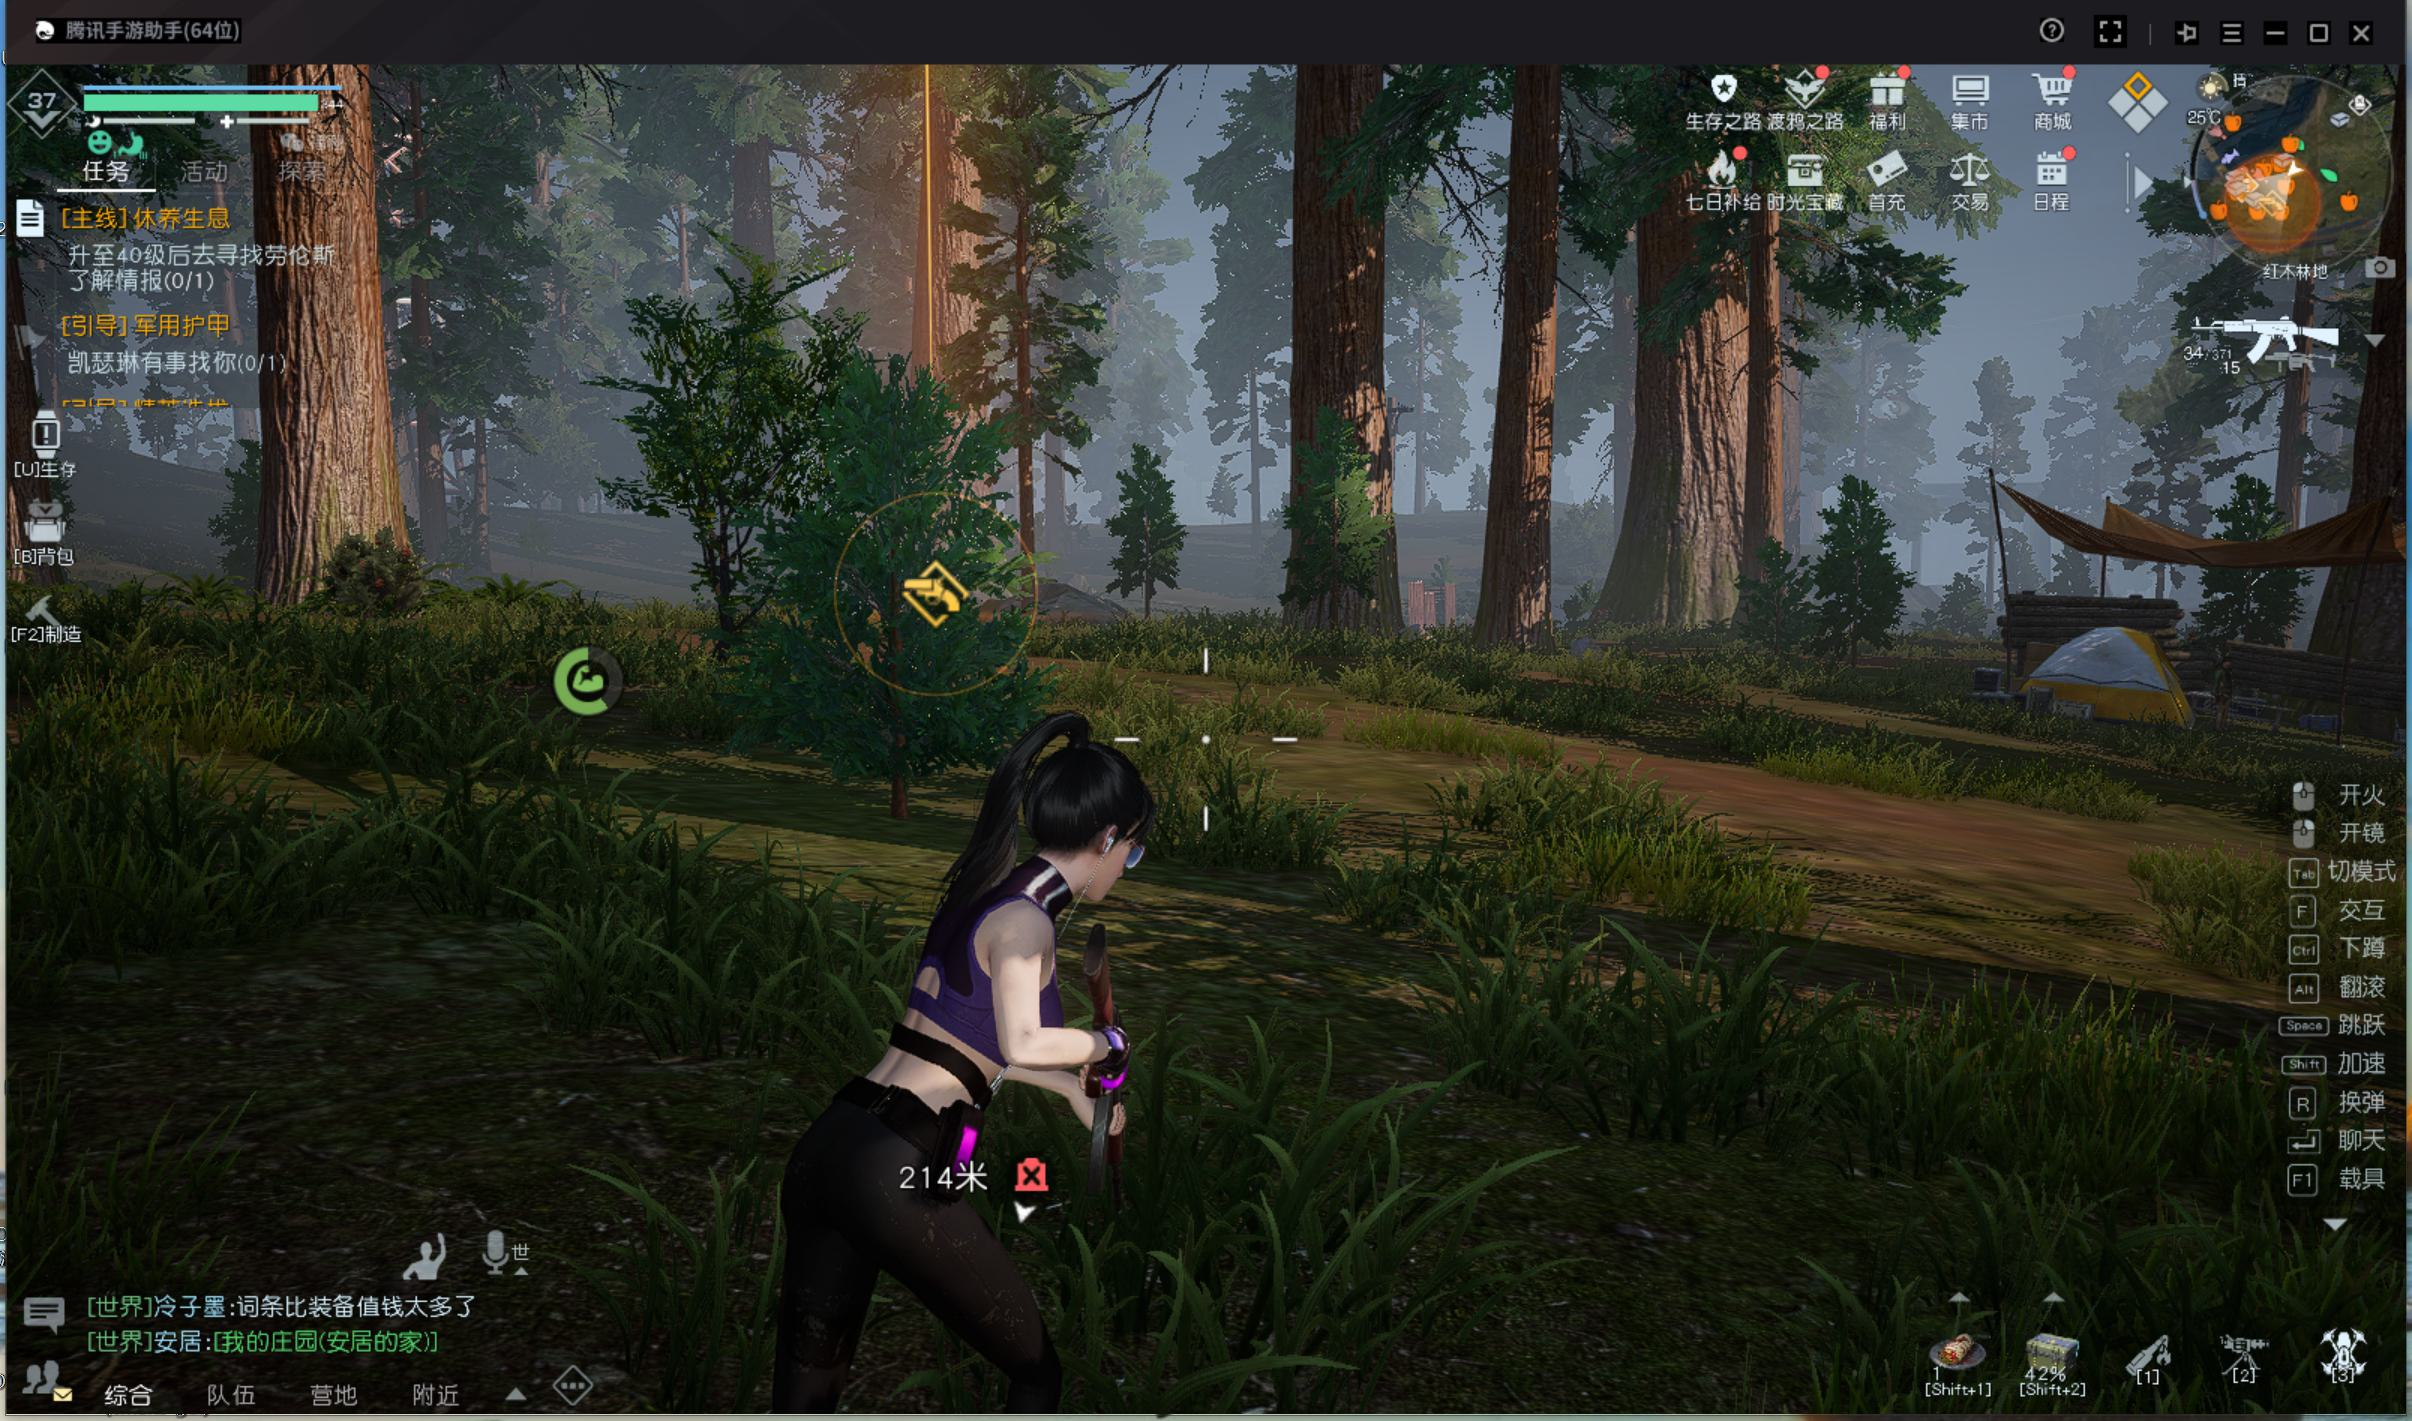tree: (238, 118, 423, 629), (1258, 137, 1394, 655), (1490, 120, 1566, 687), (1742, 230, 1790, 667)
